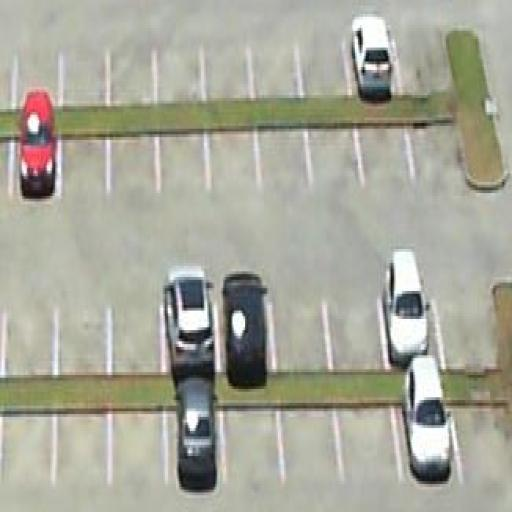car: (399, 355, 455, 490), (383, 243, 432, 378), (163, 260, 217, 378), (220, 268, 270, 392), (173, 375, 220, 498), (16, 87, 61, 204), (350, 11, 396, 104)
